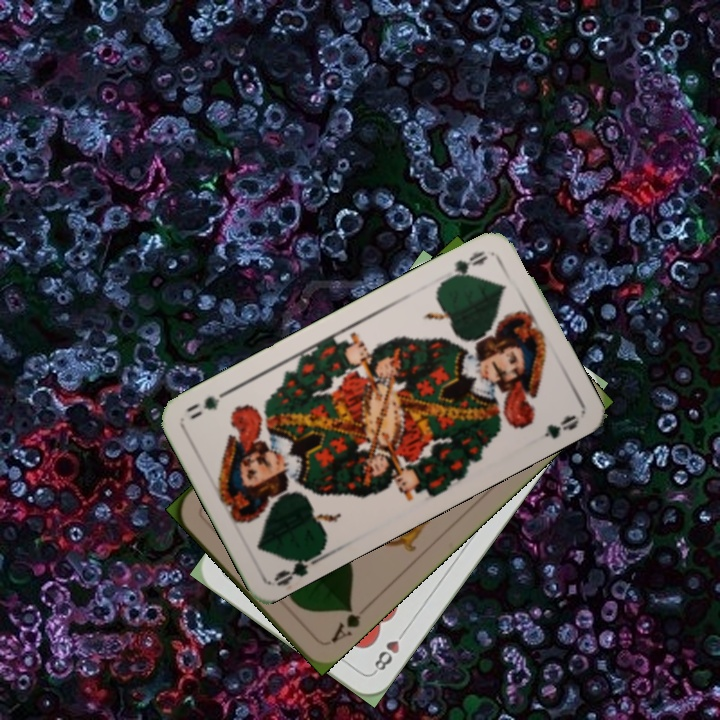GA: (326, 601, 363, 646)
GO: (270, 545, 326, 589), (440, 246, 491, 285)
H8: (369, 625, 409, 676)
